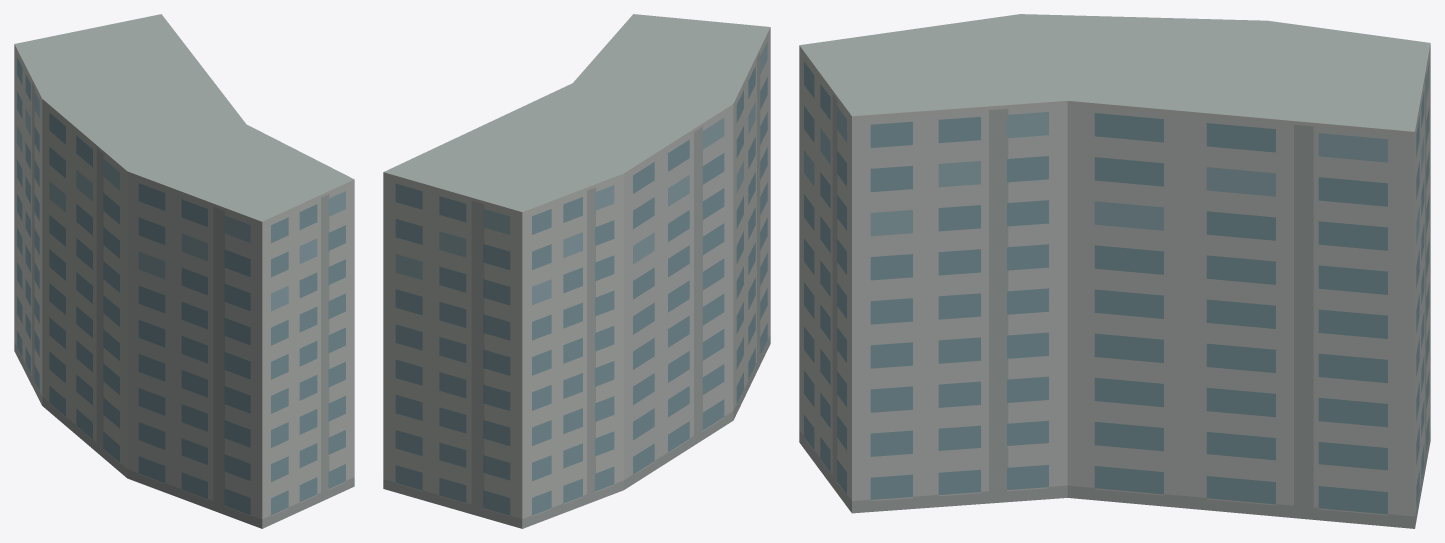
File: residential-7d33be2e-109f-4ff6-ad03-73ef8423f8ab.glb
3 views of the same model, side by side, from view 1: azimuth 30°, elevation 25°; view 2: azimuth 150°, elevation 25°; view 3: azimuth 270°, elevation 25° (orthographic). The views are drawn at different scales.
Visible parts, largest first — view 1: residential-7d33be2e-109f-4ff6-ad03-73ef8423f8ab.tmp; view 2: residential-7d33be2e-109f-4ff6-ad03-73ef8423f8ab.tmp; view 3: residential-7d33be2e-109f-4ff6-ad03-73ef8423f8ab.tmp.
Boxes of the visible parts, x1,y1,x2,y2 form: residential-7d33be2e-109f-4ff6-ad03-73ef8423f8ab.tmp: (14,14,354,528); residential-7d33be2e-109f-4ff6-ad03-73ef8423f8ab.tmp: (383,14,770,528); residential-7d33be2e-109f-4ff6-ad03-73ef8423f8ab.tmp: (799,14,1430,528).
Size of the model in its own units: 16.56 by 26 by 37.48.
